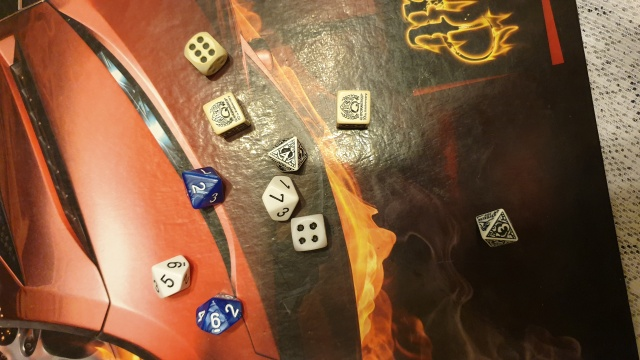d10-2: (179, 162, 217, 211)
d10-5: (145, 256, 195, 299)
d10-6: (187, 292, 247, 337)
d10-7: (260, 176, 301, 223)
d6-4: (289, 214, 328, 252)
d6-6: (181, 29, 228, 79)
d6p-6: (202, 92, 248, 138), (335, 89, 373, 127)
d8p-3: (474, 204, 520, 250)
d8p-4: (267, 136, 309, 176)
